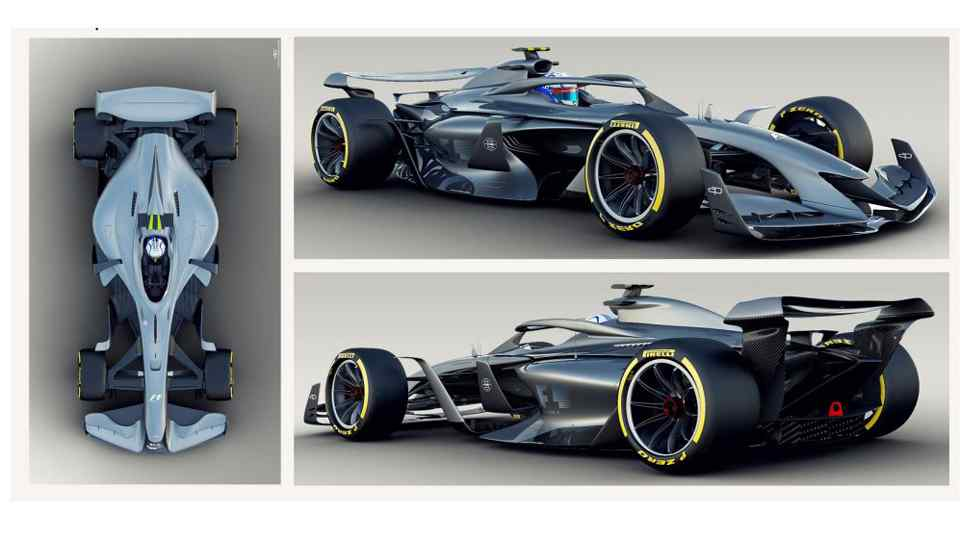f1_car: (307, 38, 941, 260), (298, 273, 946, 482), (56, 72, 252, 466)
